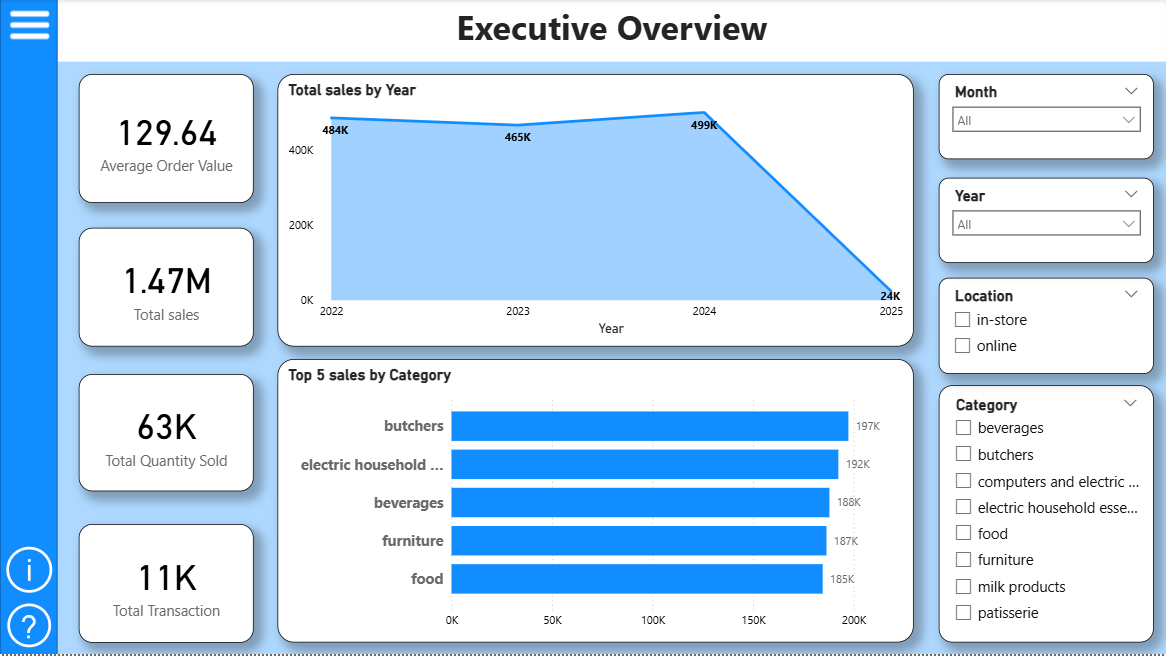

Layout of this report page (visuals, bound fields, positions):
{"tool":"powerbi","page":{"name":"Page 1","canvas":[1280,720],"ordinal":0},"visuals":[{"type":"card","fields":{"Values":["retail_store_sales_clean.Total sales"]},"box":[86.4,251.1,192.1,130.4],"z":0},{"type":"actionButton","title":"Ques","box":[1.4,654.3,61.4,65.7],"z":0,"group":"g1"},{"type":"card","fields":{"Values":["retail_store_sales_clean.Total Transaction"]},"box":[86.4,576.3,192.1,130.4],"z":1000},{"type":"actionButton","title":"Info","box":[0,592.9,64.3,67.1],"z":1000,"group":"g1"},{"type":"actionButton","title":"Menu","box":[4.3,0,61.4,57.1],"z":2000,"group":"g1"},{"type":"card","fields":{"Values":["retail_store_sales_clean.Average Order Value"]},"box":[86.4,82.3,192.1,141.3],"z":2000},{"type":"card","fields":{"Values":["retail_store_sales_clean.Total Quantity Sold"]},"box":[86.4,411.7,192.1,129],"z":3000},{"type":"lineChart","fields":{"Y":["retail_store_sales_clean.Total sales"],"Category":["retail_store_sales_clean.Transaction Date.Variation.Date Hierarchy.Year"]},"box":[304.6,82.3,698.5,299.1],"z":4000},{"type":"barChart","title":"Top 5 sales by Category","fields":{"Category":["retail_store_sales_clean.Category"],"Y":["retail_store_sales_clean.Total sales"]},"box":[304.6,395.2,698.5,311.5],"z":5000},{"type":"slicer","fields":{"Values":["retail_store_sales_clean.Transaction Date.Variation.Date Hierarchy.Month"]},"box":[1030.5,82.3,236,93.3],"z":6000},{"type":"slicer","fields":{"Values":["retail_store_sales_clean.Category"]},"box":[1030.5,424,236,282.7],"z":7000},{"type":"slicer","fields":{"Values":["retail_store_sales_clean.Location"]},"box":[1030.5,306,236,105.7],"z":8000},{"type":"slicer","fields":{"Values":["retail_store_sales_clean.Transaction Date.Variation.Date Hierarchy.Year"]},"box":[1030.5,196.2,236,93.3],"z":9000},{"type":"textbox","box":[63.1,0,1217.2,68.6],"z":10000},{"type":"shape","box":[0,0,63.1,720.4],"z":11000,"group":"g2"},{"type":"group","id":"g1","title":"Menu bar","box":[0,0,67.2,720.4],"z":12000,"group":"g2"},{"type":"group","id":"g2","title":"Group 1","box":[0,0,67.2,720.4],"z":12001}]}

Visuals, with their boxes in screenshot pixels (x1, y1, x2, y2), scaled from the page's 1280x720 canvas onto the 1166x656 screenshot:
card - retail_store_sales_clean.Total sales: select_region(79, 229, 254, 348)
"Ques" actionButton: select_region(1, 596, 57, 655)
card - retail_store_sales_clean.Total Transaction: select_region(79, 525, 254, 644)
"Info" actionButton: select_region(0, 540, 59, 601)
"Menu" actionButton: select_region(4, 0, 60, 52)
card - retail_store_sales_clean.Average Order Value: select_region(79, 75, 254, 204)
card - retail_store_sales_clean.Total Quantity Sold: select_region(79, 375, 254, 493)
lineChart - retail_store_sales_clean.Total sales x retail_store_sales_clean.Transaction Date.Variation.Date Hierarchy.Year: select_region(277, 75, 914, 347)
"Top 5 sales by Category" barChart: select_region(277, 360, 914, 644)
slicer - retail_store_sales_clean.Transaction Date.Variation.Date Hierarchy.Month: select_region(939, 75, 1154, 160)
slicer - retail_store_sales_clean.Category: select_region(939, 386, 1154, 644)
slicer - retail_store_sales_clean.Location: select_region(939, 279, 1154, 375)
slicer - retail_store_sales_clean.Transaction Date.Variation.Date Hierarchy.Year: select_region(939, 179, 1154, 264)
textbox: select_region(57, 0, 1165, 63)
shape: select_region(0, 0, 57, 655)
"Menu bar" group: select_region(0, 0, 61, 655)
"Group 1" group: select_region(0, 0, 61, 655)
